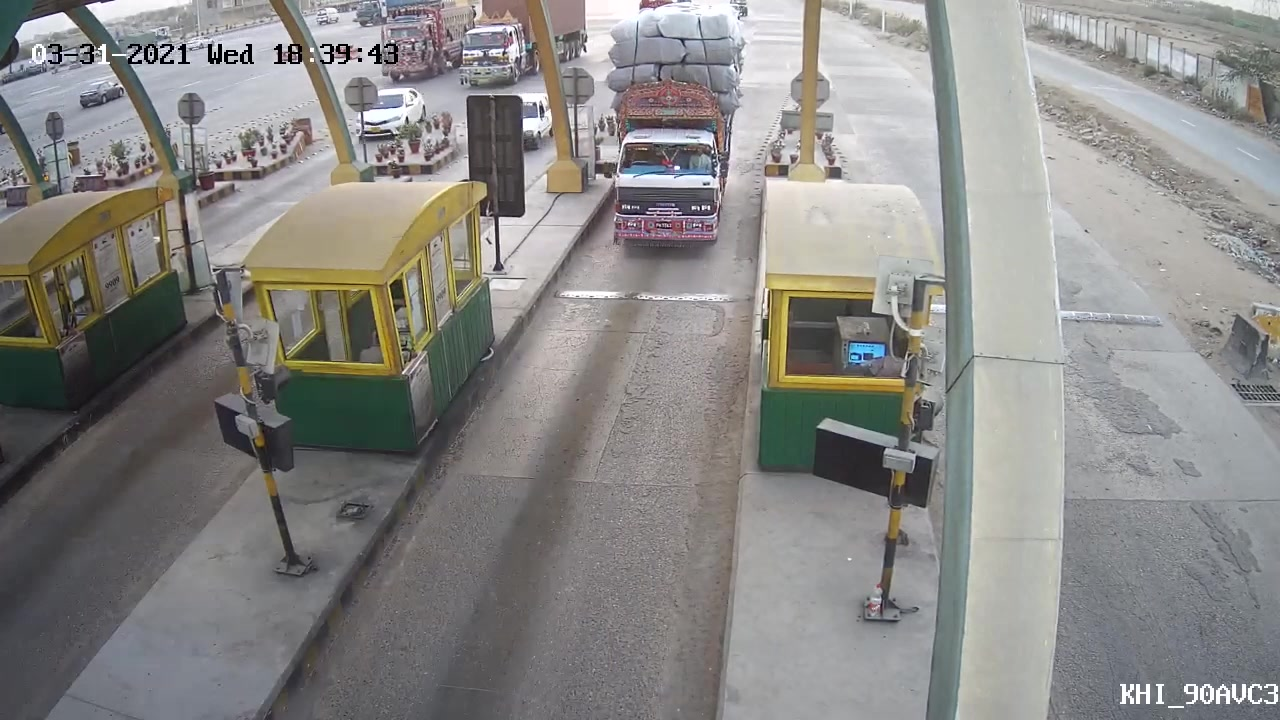F3: (591, 1, 752, 256)
